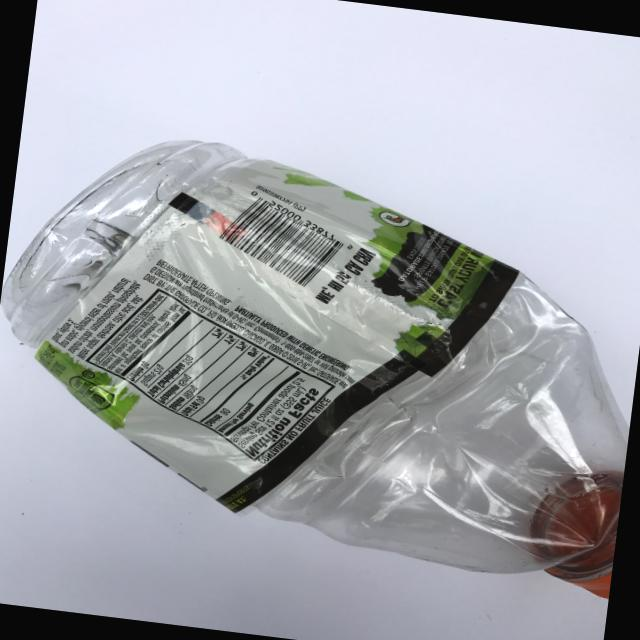Plastic: (0, 85, 640, 587)
